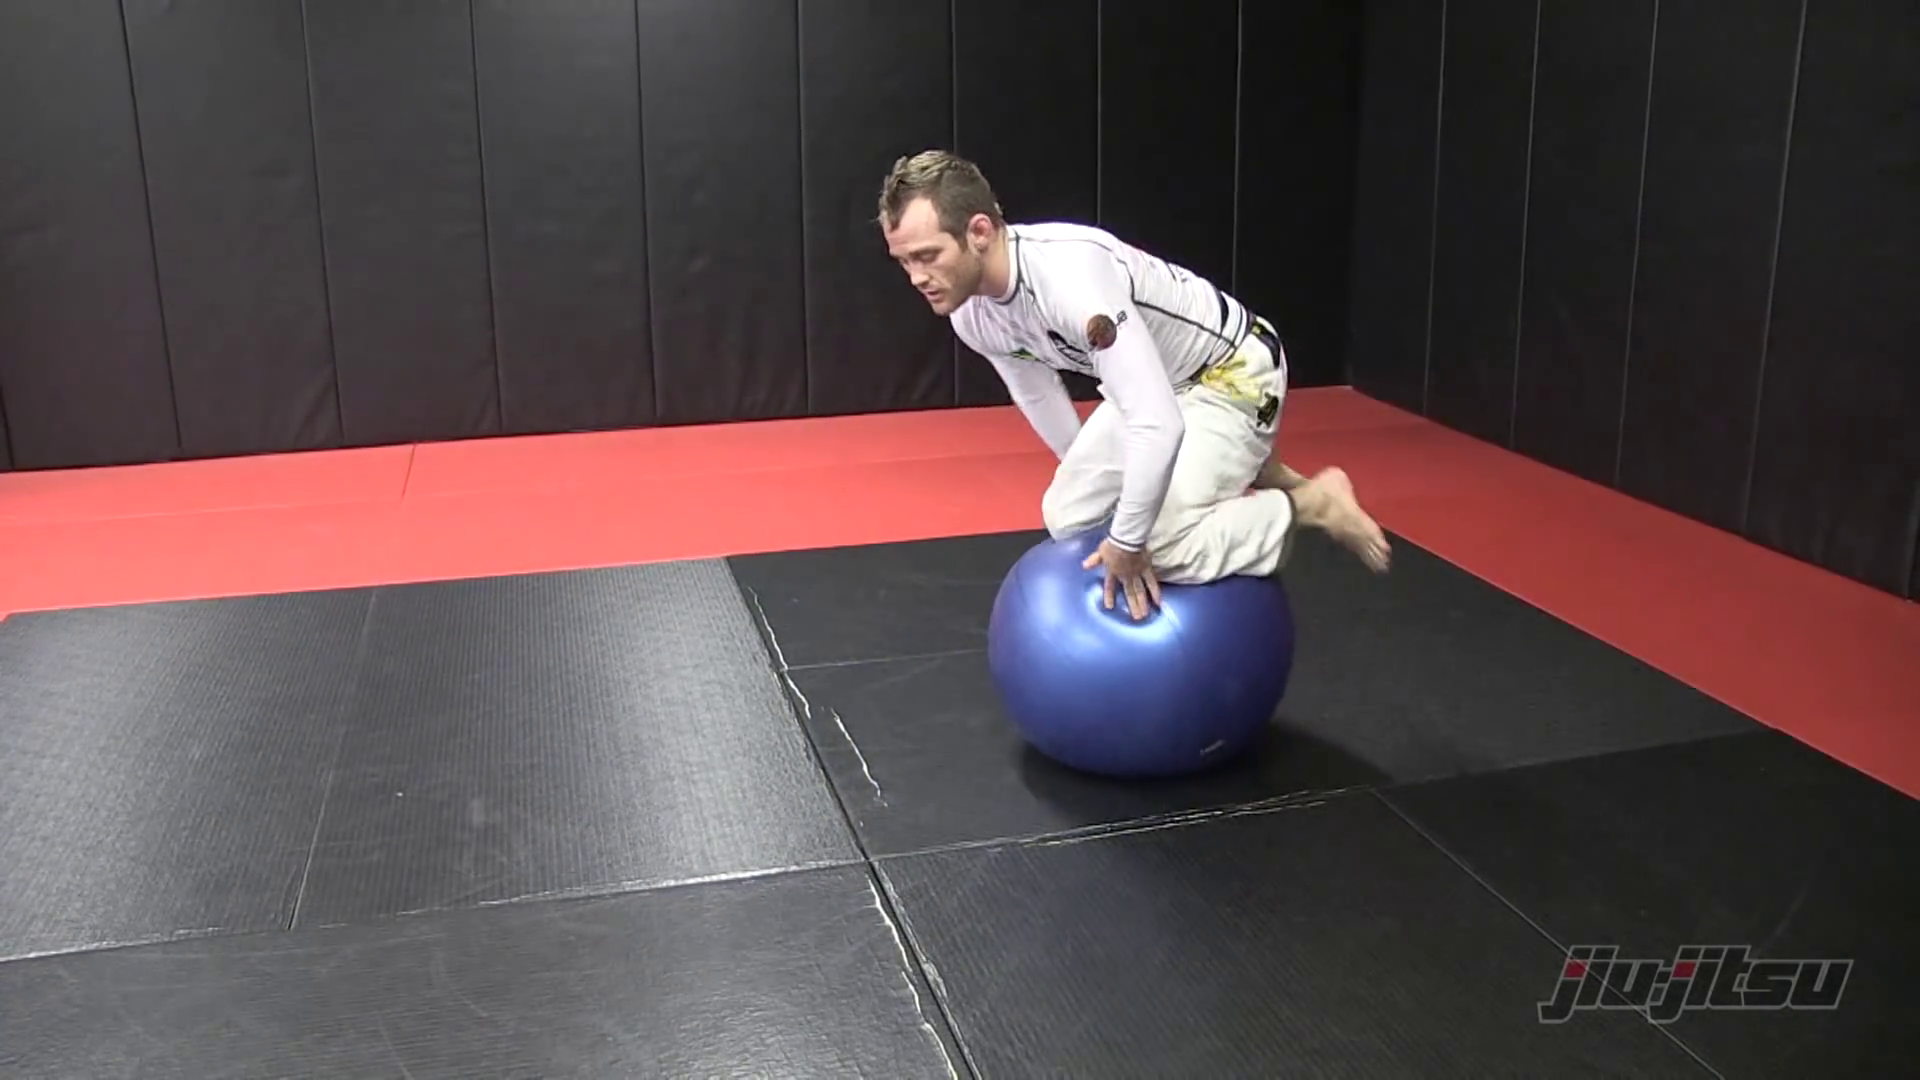yogaball: (973, 512, 1327, 800)
